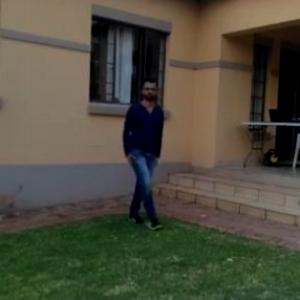follow: (113, 81, 160, 222)
